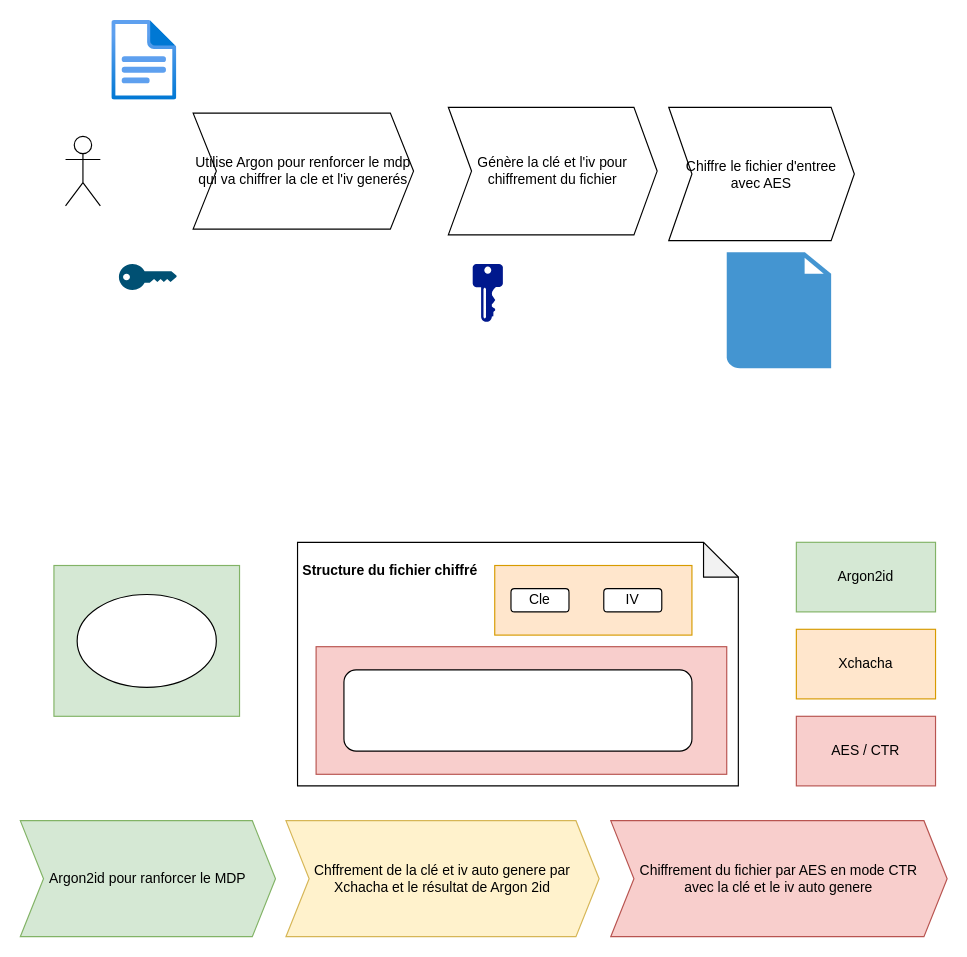
Image size: 967x957. Some labels were removed from this diagram. The centre of each missing label's shape, as x and y in pixels:
"Actor" goes at (x=82, y=170).
"Données" goes at (x=517, y=710).
"Fichier chiffré" goes at (x=778, y=310).
"Mot de passe" goes at (x=146, y=640).
